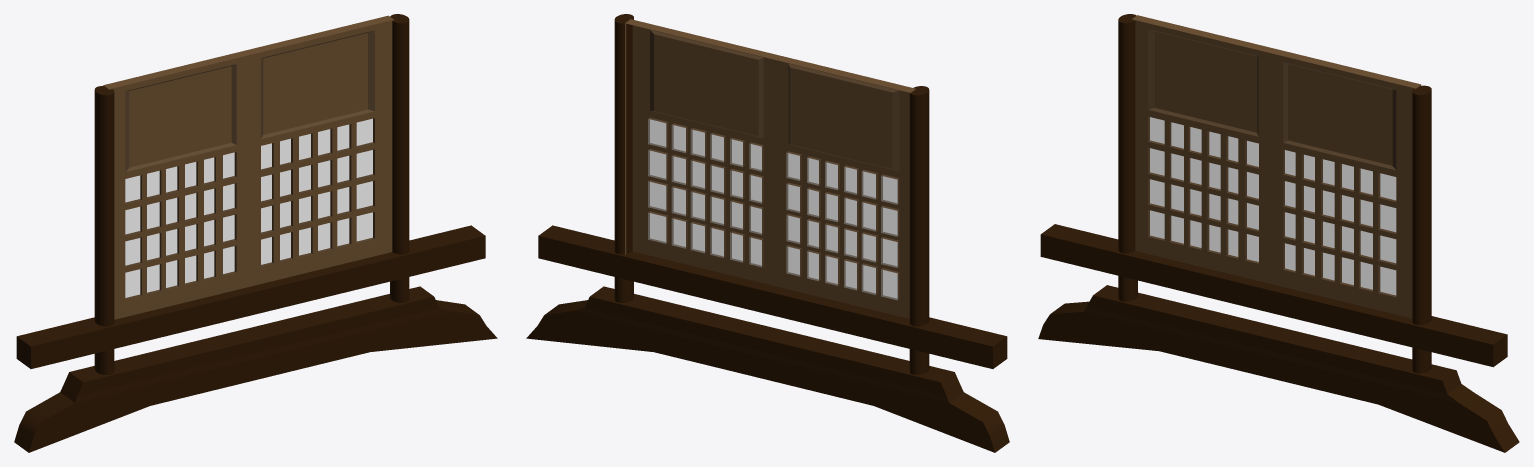
Rendered from dojo door 1.fbx.
3 renders of one model, left to right at view 1: azimuth 30°, elevation 25°; view 2: azimuth 150°, elevation 25°; view 3: azimuth 330°, elevation 25°, orthographic.
Visible parts, largest first — view 1: pCube31; view 2: pCube31; view 3: pCube31.
Boxes of the visible parts, x1,y1,x2,y2 form: pCube31: (14,14,497,452); pCube31: (526,14,1009,452); pCube31: (1038,14,1519,452).
Bounding box in the file's own units: 36.64 × 25.18 × 2.
